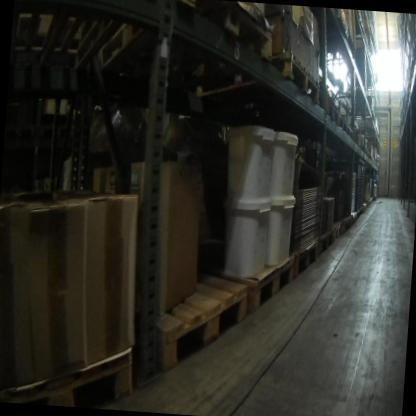pallet: (0, 169, 150, 403), (88, 0, 285, 109), (169, 39, 326, 130), (139, 263, 256, 380), (200, 236, 301, 332), (10, 0, 117, 90), (292, 240, 318, 280), (319, 90, 343, 132), (326, 32, 359, 62), (322, 219, 344, 247), (315, 226, 333, 260), (335, 103, 350, 141), (335, 215, 353, 235), (344, 210, 359, 227), (345, 121, 355, 144), (357, 143, 370, 156), (412, 20, 416, 61), (363, 196, 373, 212), (358, 203, 368, 216), (366, 151, 373, 165)
stillage: (332, 155, 366, 215), (359, 160, 374, 219)
